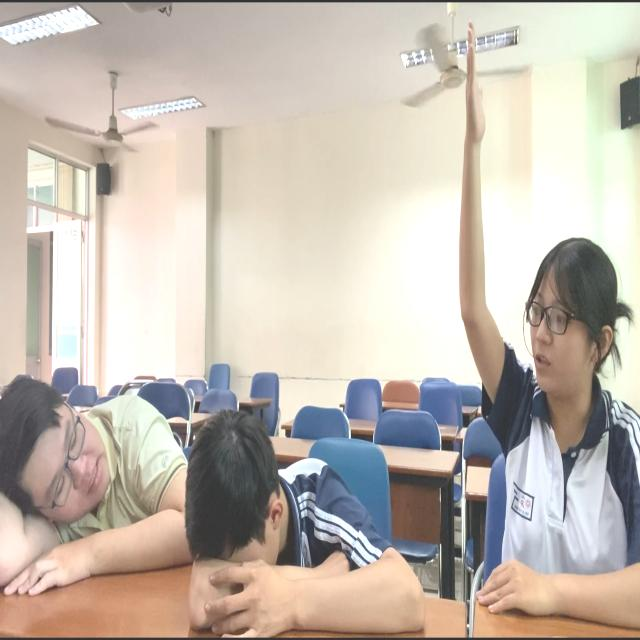raise_hand: (450, 14, 640, 635)
sleep: (181, 413, 437, 632), (1, 367, 184, 591)
